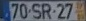0: (18, 2, 28, 19)
2: (55, 2, 66, 19)
7: (64, 2, 74, 19), (10, 2, 18, 20)
R: (41, 2, 52, 19)
S: (30, 2, 42, 19)
